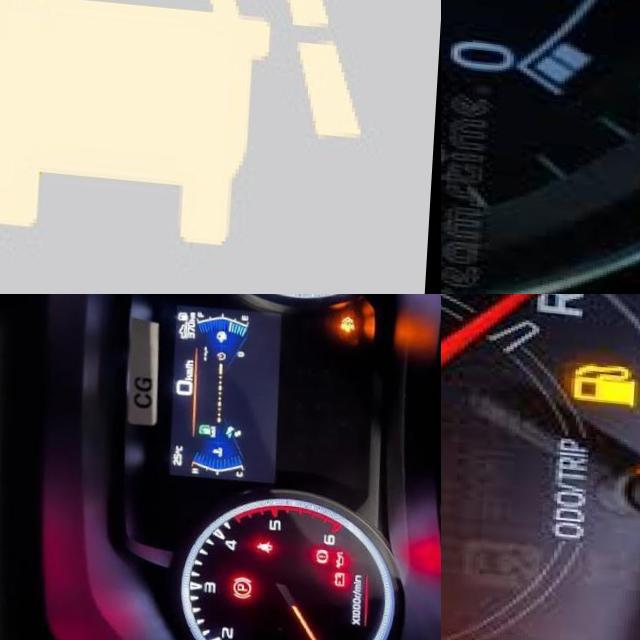Seat Belt: (261, 532, 280, 546)
